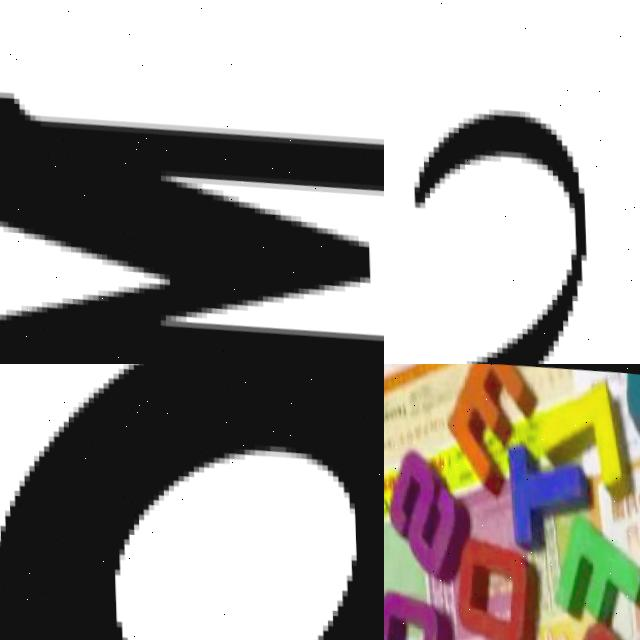3: (384, 56, 599, 364)
C: (0, 364, 384, 640)
E: (442, 364, 530, 495)
F: (553, 514, 640, 619)
G: (384, 576, 450, 640)
L: (538, 376, 630, 497)
M: (0, 74, 384, 364)
O: (453, 534, 539, 640)
S: (384, 446, 467, 590)
T: (500, 423, 583, 549)
U: (552, 592, 639, 640)
